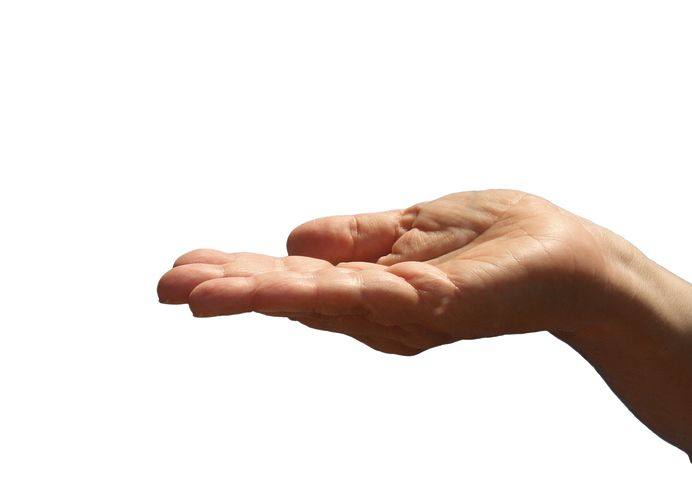palmhand: (154, 189, 581, 333)
